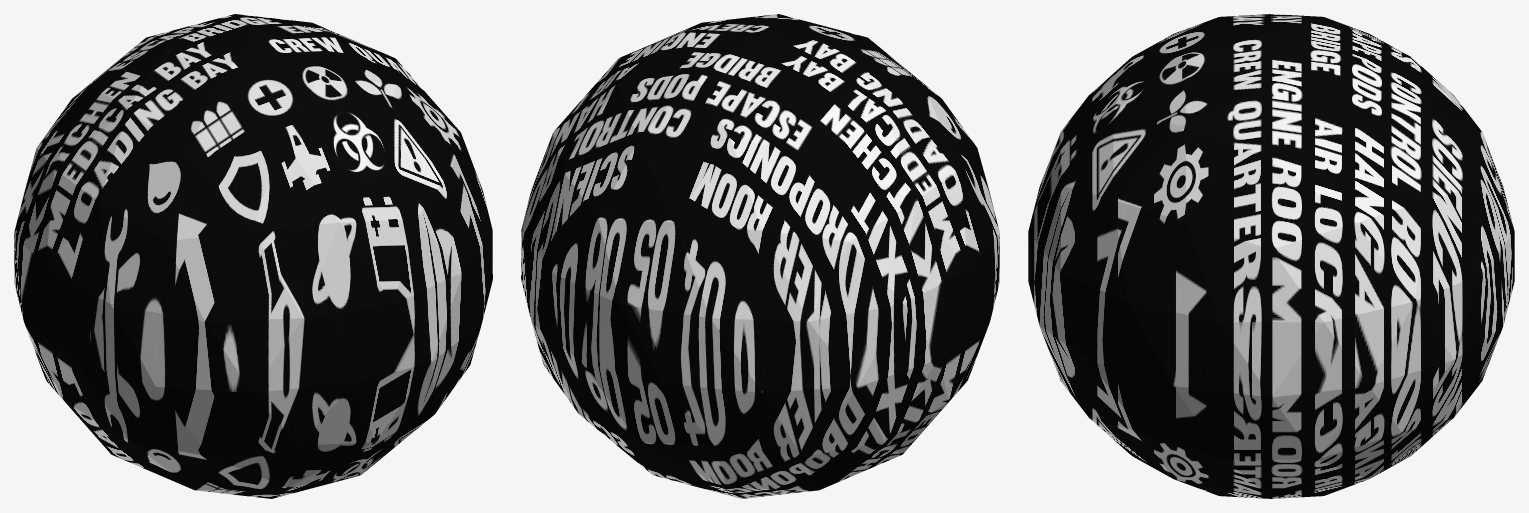
The model's file is space_SM_SphereInverted.gltf.
The picture shows the model from 3 angles, left to right: view 1: azimuth 30°, elevation 25°; view 2: azimuth 150°, elevation 25°; view 3: azimuth 270°, elevation 25°; orthographic projection.
Parts seen in each view (by area): view 1: SphereInverted; view 2: SphereInverted; view 3: SphereInverted.
Part boxes in pixels (box(x1,y1,x2,y2)): SphereInverted: box(14, 14, 492, 498); SphereInverted: box(521, 14, 999, 498); SphereInverted: box(1028, 14, 1514, 498).
Size of the model in its own units: 0.1971 by 0.2 by 0.1966.
Materials: 1 (1 with a texture image).
